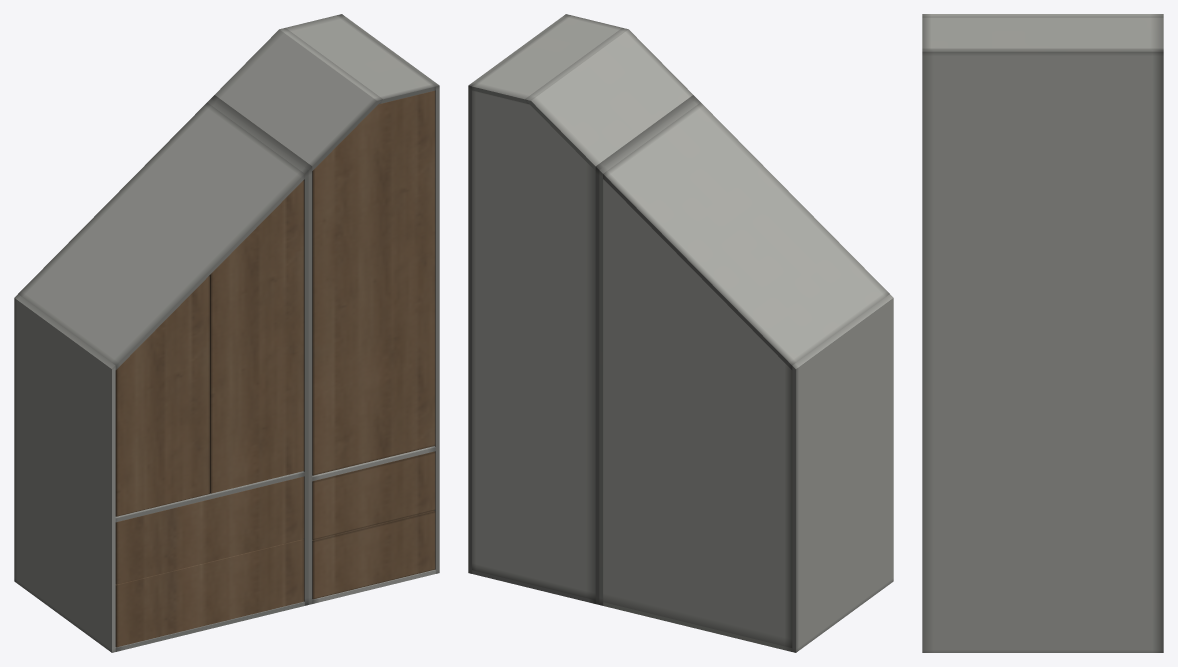
File: meublep.glb
3 renders of one model, left to right at view 1: azimuth 30°, elevation 25°; view 2: azimuth 150°, elevation 25°; view 3: azimuth 270°, elevation 25°, orthographic. The views are drawn at different scales.
Visible parts, largest first — view 1: world; view 2: world; view 3: world.
Boxes of the visible parts, x1=… form: world: x1=14, y1=14, x2=439, y2=652; world: x1=468, y1=14, x2=893, y2=652; world: x1=922, y1=14, x2=1163, y2=652.
Bounding box in the file's own units: 1.68 × 2.39 × 0.87.
Materials: 1 (1 with a texture image).
